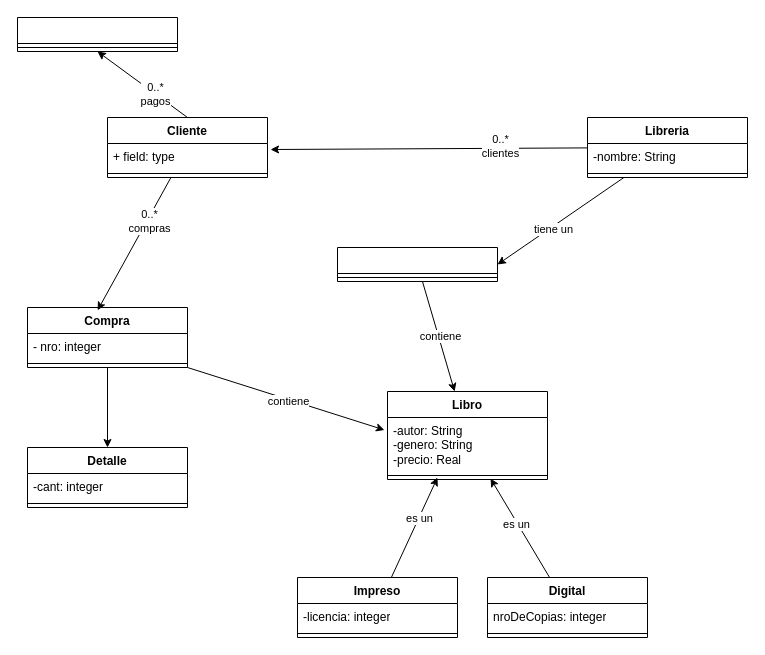
The diagram is 765 pixels wide and 655 high, and some of its shapes have lost their labels. Each missing label, with the centre of its shape:
Catalogo: [417,264]
Pago: [97,34]
